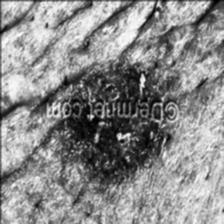Potentially Malignant Skin Tumors: (65, 74, 160, 176)
